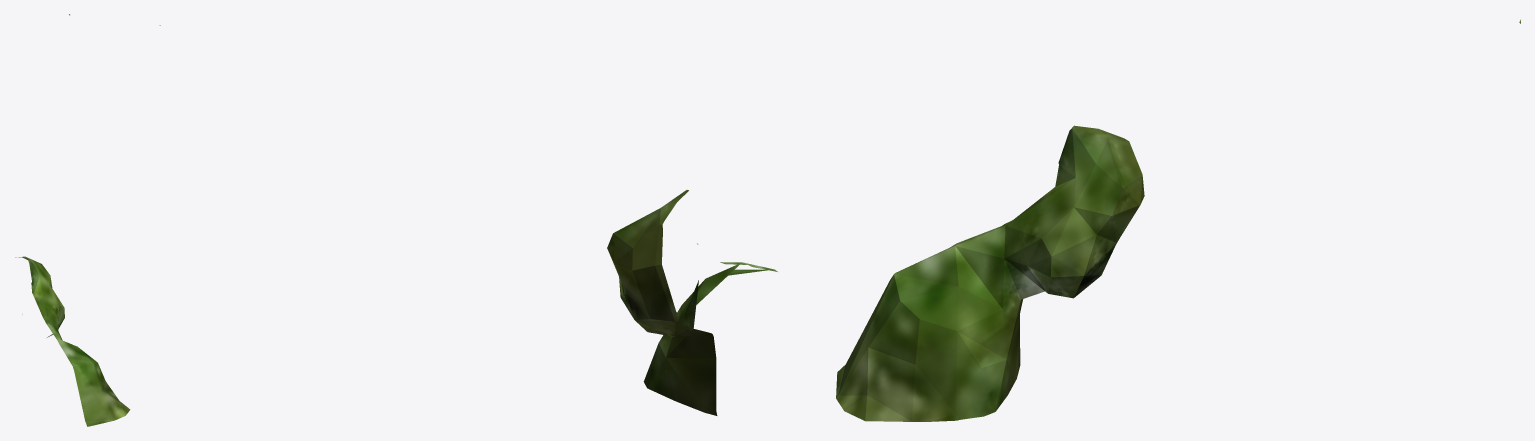
The picture shows the model from 3 angles, left to right: view 1: azimuth 30°, elevation 25°; view 2: azimuth 150°, elevation 25°; view 3: azimuth 270°, elevation 25°; orthographic projection. The views are drawn at different scales.
Size of the model in its own units: 0.3323 by 0.5184 by 0.6416.
1 material, 1 textured.
